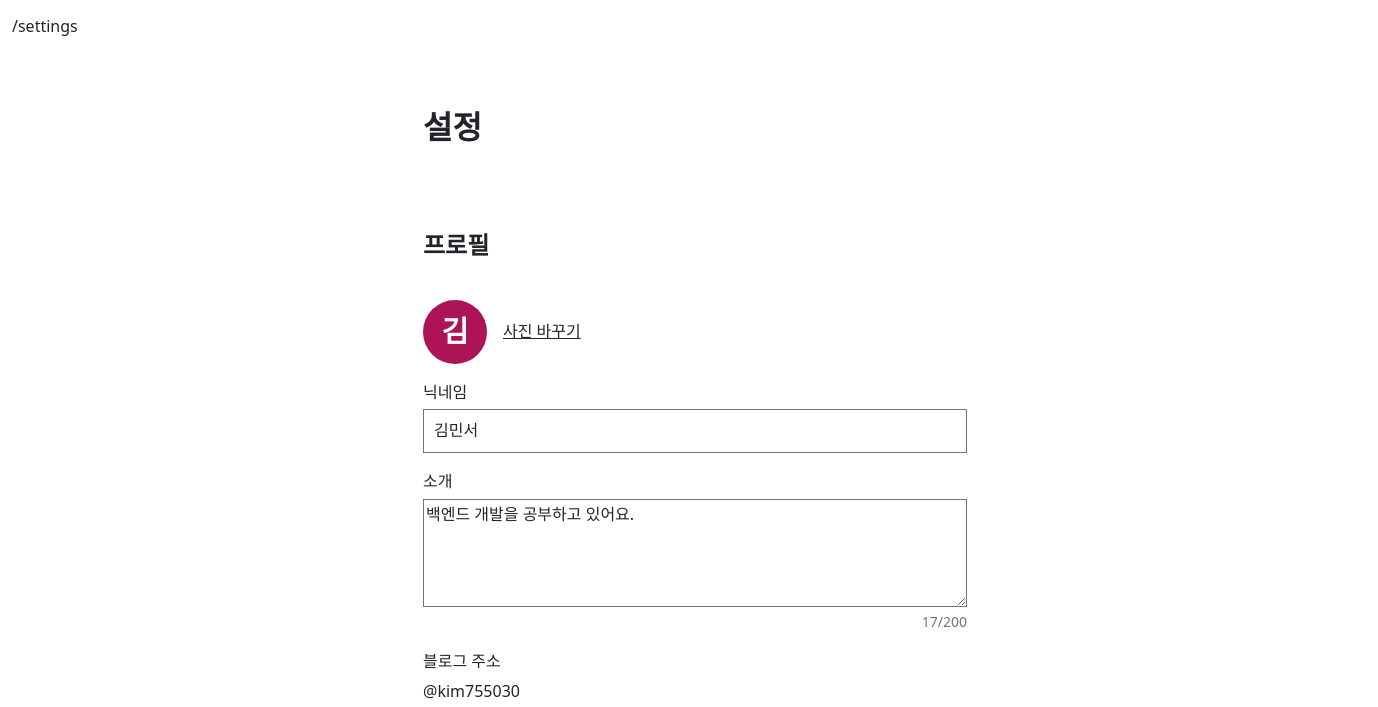
it: SettingsPage (FR-046~053) › [저장]은 바꾼 칸만 보낸다
The width and height of the screenshot is (1378, 707).
Replace the text in the text box labelled "소개" with "새 소개" at x=695, y=553, box top-left (423, 499), bottom-right (967, 607)
(page scrolled)
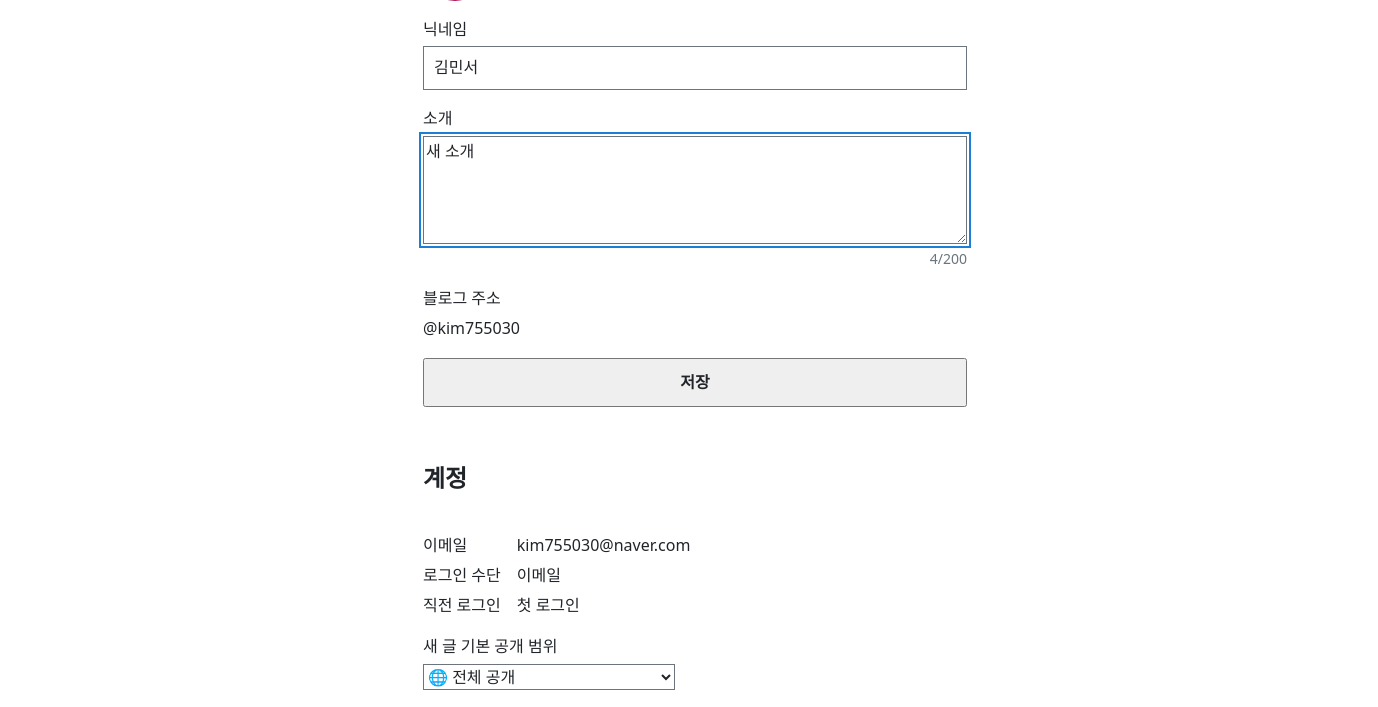
Click the button "저장" at x=695, y=382, box top-left (423, 358), bottom-right (967, 407)
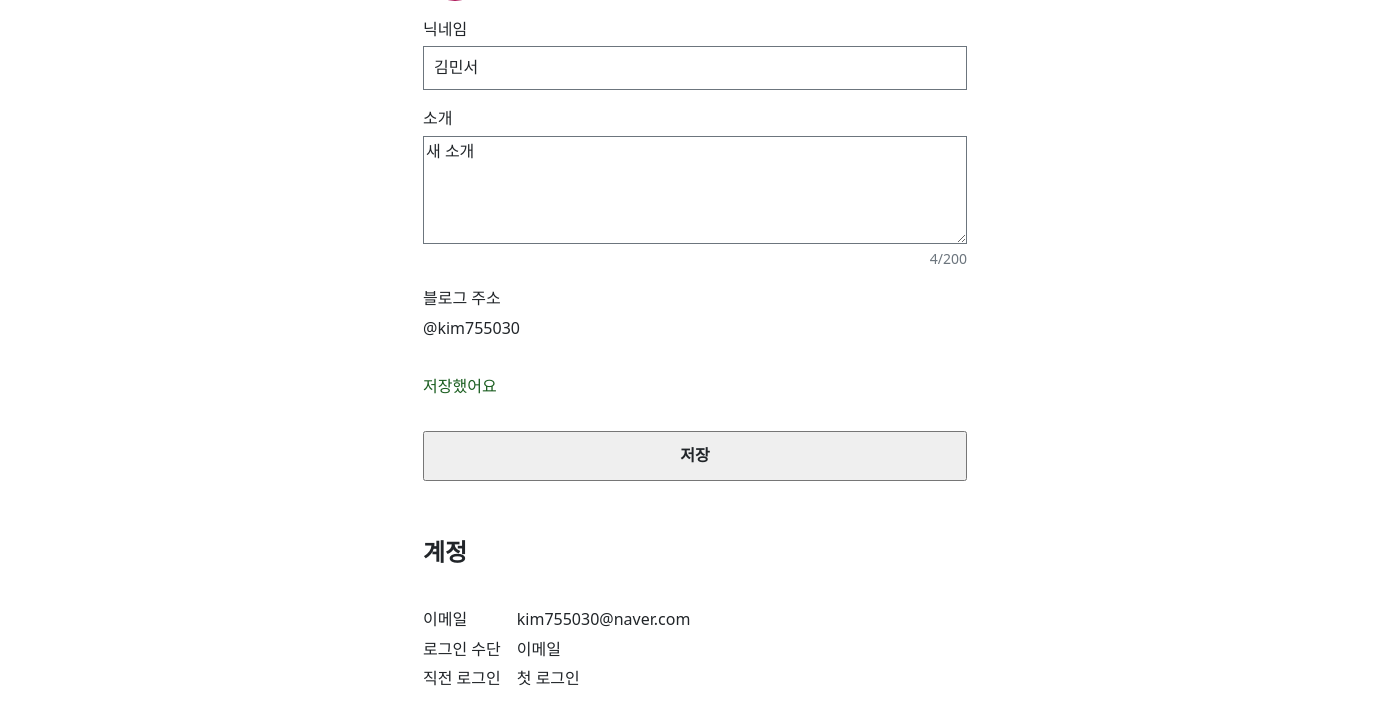
Now the text "저장했어요" is shown, box top-left (423, 375), bottom-right (497, 397)
